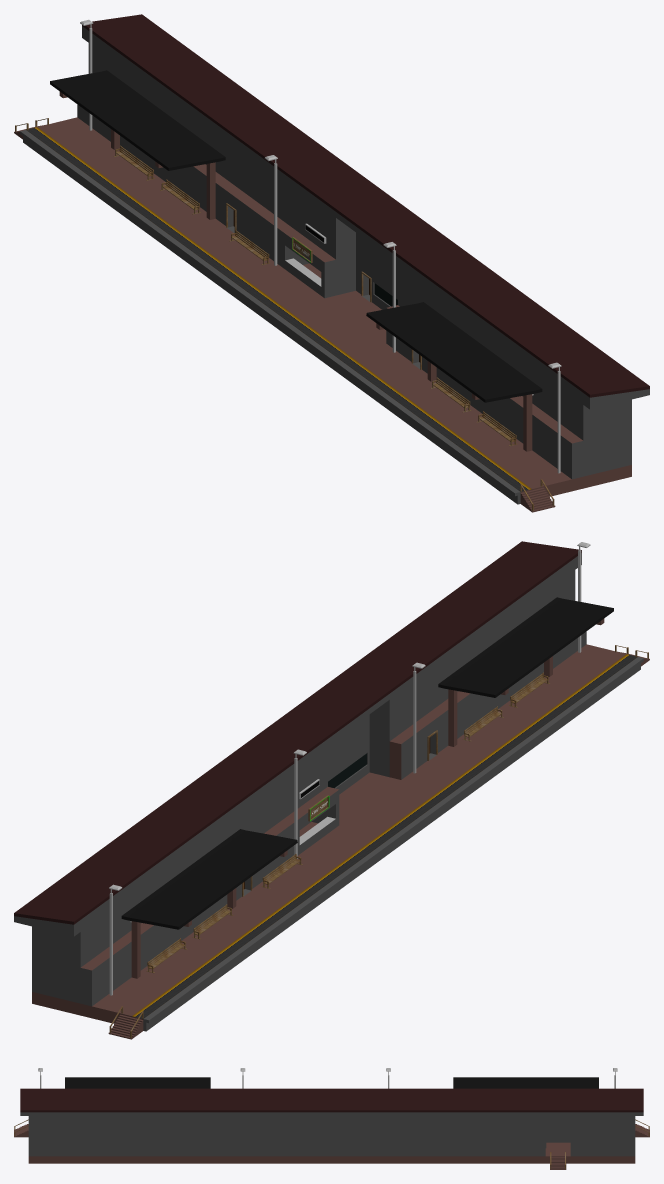
File: platform_001.fbx
The picture shows the model from 3 angles, top to bottom: view 1: azimuth 30°, elevation 25°; view 2: azimuth 150°, elevation 25°; view 3: azimuth 270°, elevation 25°; orthographic projection. The views are drawn at different scales.
Visible parts, largest first — view 1: platformMesh, shelter002, shelter001; view 2: platformMesh, shelter001, shelter002; view 3: platformMesh, shelter001, shelter002.
Boxes of the visible parts, x1,y1,x2,y2 form: platformMesh: (14,14,649,512); shelter002: (366,302,542,451); shelter001: (50,70,225,219); platformMesh: (14,541,649,1039); shelter001: (121,829,297,978); shelter002: (438,597,613,746); platformMesh: (14,1088,649,1169); shelter001: (453,1077,598,1088); shelter002: (65,1077,210,1088).
Bounding box in the file's own units: 2410 × 2035 × 15720.
